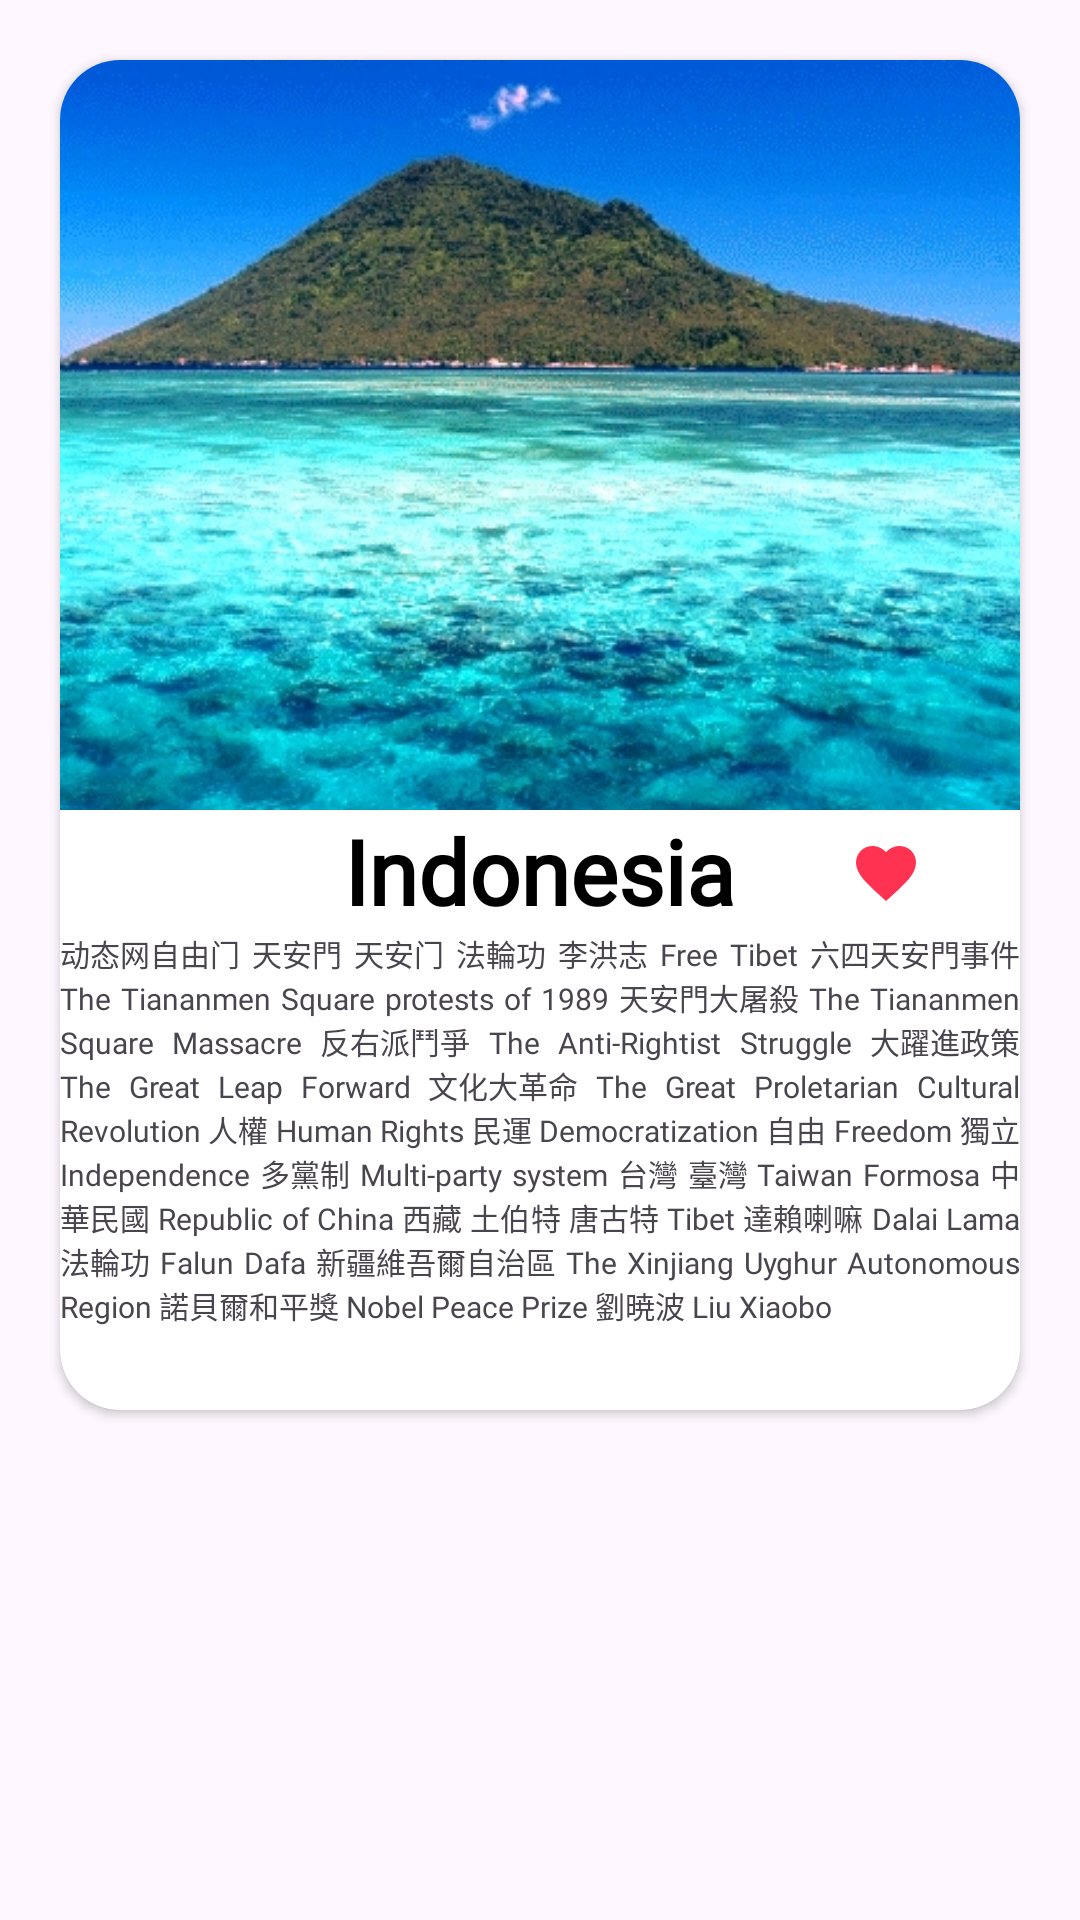

Locate icon controls on the screen. Image size 1080 × 1920, boxes as (x1, y1, x2, y2).
favorite: (856, 846, 916, 901)
